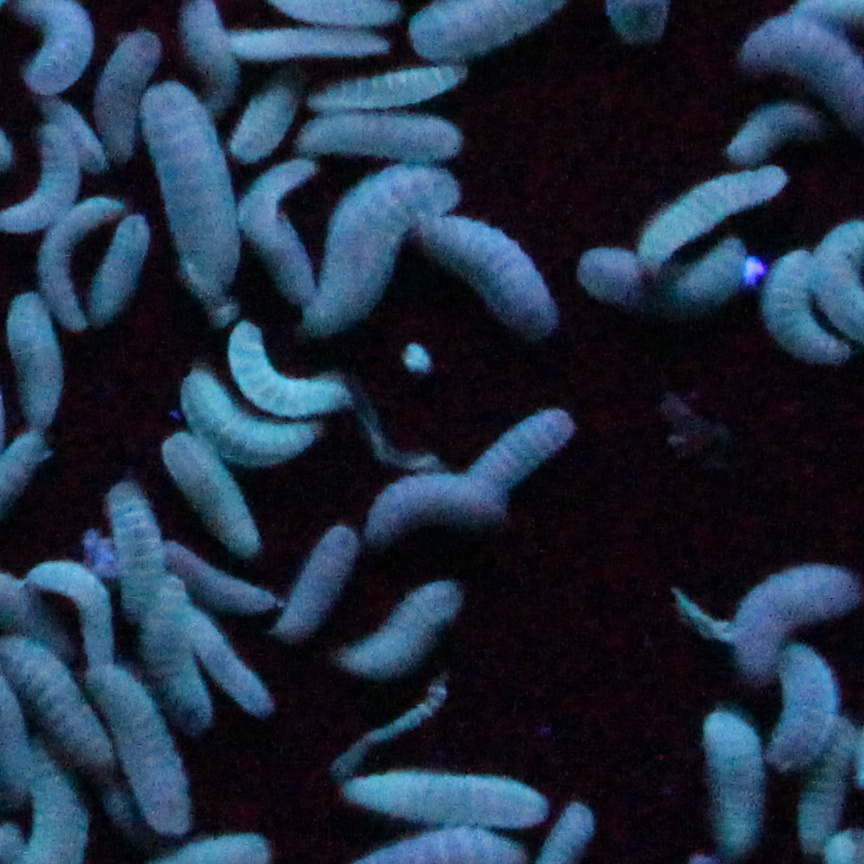larve: (293, 167, 465, 334), (139, 88, 237, 296), (417, 210, 567, 340), (87, 671, 198, 833), (636, 169, 793, 276), (737, 555, 863, 679), (225, 322, 361, 417), (574, 243, 748, 315), (163, 433, 260, 562), (336, 774, 544, 833), (180, 377, 321, 462), (179, 603, 280, 710), (343, 584, 461, 674), (363, 477, 513, 545), (758, 257, 851, 365), (5, 291, 74, 431), (705, 712, 768, 862), (277, 529, 356, 643), (40, 558, 119, 664), (94, 29, 159, 154), (107, 478, 165, 616), (315, 56, 463, 110), (480, 410, 578, 491), (234, 70, 304, 165), (782, 639, 834, 762), (301, 119, 463, 158), (235, 28, 389, 58)
